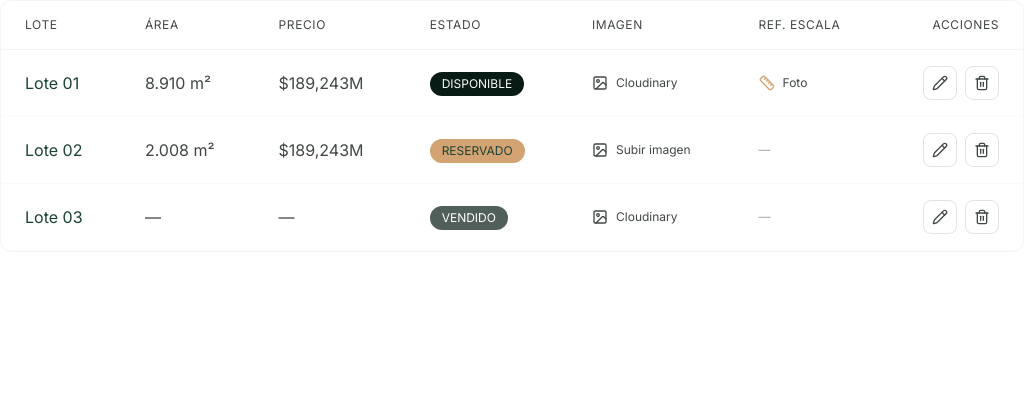
LotsTable › Edit mode › enters edit mode when pencil button is clicked
Click the button named "Editar lote" in the row of "01" at (940, 83), box [923,66,957,100]
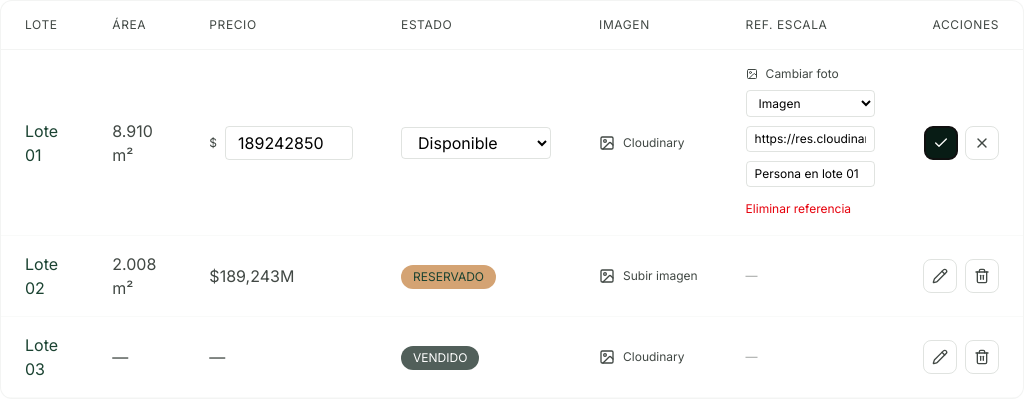
Expected: the button named "Guardar cambios" is shown, [925,126,957,158]
Expected: the button named "Cancelar edición" is shown, [965,126,999,160]
